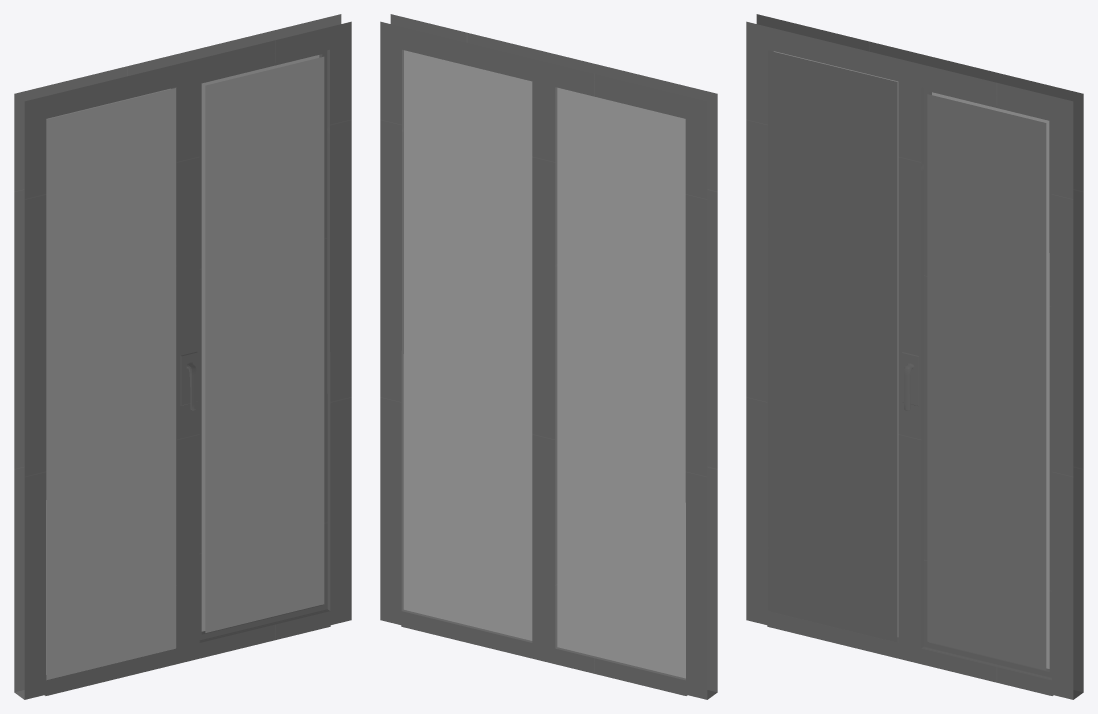
Rendered from Window_ea9d7787.obj.
3 views of the same model, side by side, from view 1: azimuth 30°, elevation 25°; view 2: azimuth 150°, elevation 25°; view 3: azimuth 330°, elevation 25° (orthographic).
Parts seen in each view (by area): view 1: QuadDecalSpawnPlane_(1)_b1393574, FP326:SlidingDoor1_0cea6b8c, QuadDecalSpawnPlane_f740c842, FP326:SlidingDoorPane1_043ef867; view 2: FP326:SlidingDoorPane1_043ef867, FP326:SlidingDoor1_0cea6b8c; view 3: QuadDecalSpawnPlane_(1)_b1393574, FP326:SlidingDoor1_0cea6b8c, QuadDecalSpawnPlane_f740c842, FP326:SlidingDoorPane1_043ef867.
Part boxes in pixels (x1=…): QuadDecalSpawnPlane_(1)_b1393574: x1=46, y1=88, x2=175, y2=680; FP326:SlidingDoor1_0cea6b8c: x1=14, y1=14, x2=351, y2=699; QuadDecalSpawnPlane_f740c842: x1=205, y1=56, x2=324, y2=632; FP326:SlidingDoorPane1_043ef867: x1=46, y1=55, x2=319, y2=674; FP326:SlidingDoorPane1_043ef867: x1=403, y1=50, x2=685, y2=678; FP326:SlidingDoor1_0cea6b8c: x1=380, y1=14, x2=717, y2=699; QuadDecalSpawnPlane_(1)_b1393574: x1=768, y1=50, x2=897, y2=642; FP326:SlidingDoor1_0cea6b8c: x1=746, y1=14, x2=1083, y2=699; QuadDecalSpawnPlane_f740c842: x1=927, y1=94, x2=1046, y2=670; FP326:SlidingDoorPane1_043ef867: x1=773, y1=51, x2=1049, y2=668.
Size of the model in its own units: 1.2 by 2.11 by 0.0983.
